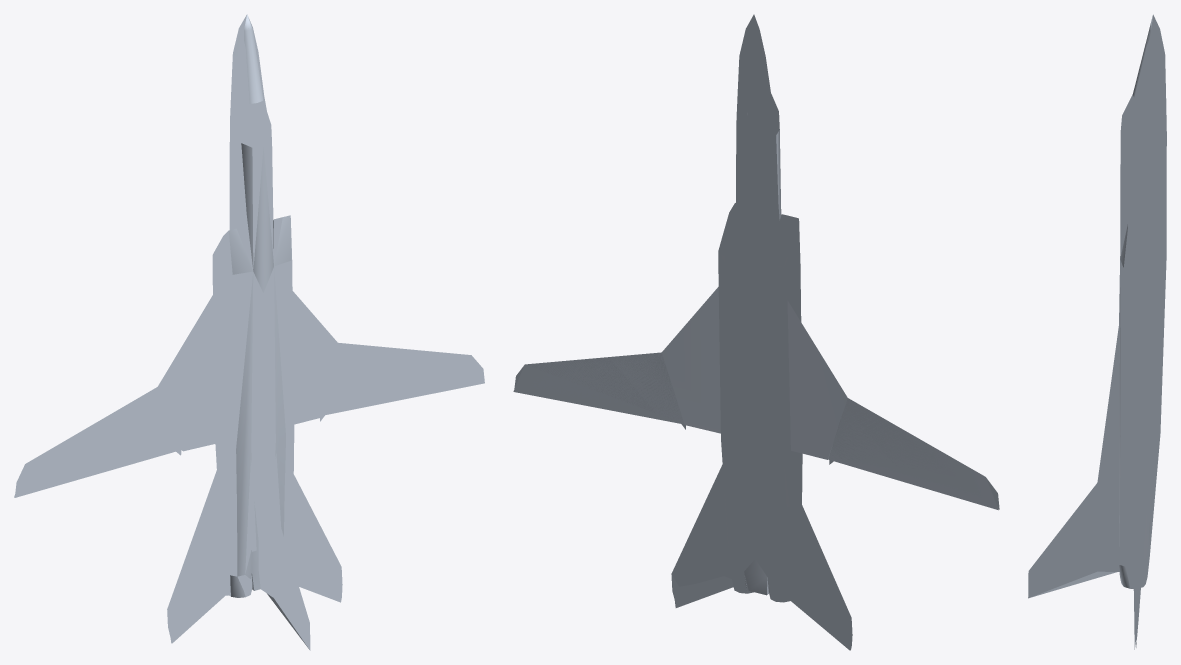
3 views of the same model, side by side, from view 1: azimuth 30°, elevation 25°; view 2: azimuth 150°, elevation 25°; view 3: azimuth 270°, elevation 25° (orthographic). The views are drawn at different scales.
Visible parts, largest first — view 1: db_bkfire_lod2_LOD child0_body2_p17304_Geometry_1.001, db_bkfire_lod3_LOD child0_body3_p17910_Geometry_1.001, db_bkfire_lod1_LOD child0_body_p14938_Geometry_1.001, db_bkfire_lod1_LOD child0_wingl_p15821_Geometry_1.001, db_bkfire_lod1_LOD child0_o2691_p18310_Geometry_1.001, db_bkfire_lod2_LOD child0_stab2_p16643_Geometry_0.001, db_bkfire_lod2_LOD child0_wing2_p16828_Geometry_1.001, db_bkfire_lod1_LOD child0_wing_p14663_Geometry_1.001, db_bkfire_lod1_LOD child0_tail_p14649_Geometry_0.001, db_bkfire_lod1_LOD child0_stab_p14362_Geometry_0.001, db_bkfire_lod1_LOD child0_cpit_p15020_Geometry_0.001, db_bkfire_lod2_LOD child0_tail2_p16773_Geometry_0.001; view 2: db_bkfire_lod1_LOD child0_body_p14938_Geometry_1.001, db_bkfire_lod2_LOD child0_body2_p17304_Geometry_1.001, db_bkfire_lod3_LOD child0_wing3_p18099_Geometry_0.001, db_bkfire_lod1_LOD child0_stab_p14362_Geometry_0.001, db_bkfire_lod3_LOD child0_o2689_p18303_Geometry_0.001, db_bkfire_lod3_LOD child0_wingl3_p18197_Geometry_0.001, db_bkfire_lod2_LOD child0_o2690_p18305_Geometry_0.001, db_bkfire_lod2_LOD child0_wingl2_p16478_Geometry_0.001, db_bkfire_lod3_LOD child0_stab3_p18195_Geometry_0.001, db_bkfire_lod1_LOD child0_inlet_p14384_Geometry_0.001, db_bkfire_lod3_LOD child0_body3_p17910_Geometry_1.001; view 3: db_bkfire_lod1_LOD child0_body_p14938_Geometry_1.001, db_bkfire_lod1_LOD child0_tail_p14649_Geometry_0.001, db_bkfire_lod2_LOD child0_body2_p17304_Geometry_1.001, db_bkfire_lod3_LOD child0_body3_p17910_Geometry_1.001, db_bkfire_lod2_LOD child0_tail2_p16773_Geometry_0.001, db_bkfire_lod2_LOD child0_stab2_p16643_Geometry_0.001, db_bkfire_lod1_LOD child0_o2691_p18310_Geometry_1.001, db_bkfire_lod1_LOD child0_cpit_p15020_Geometry_0.001, db_bkfire_lod1_LOD child0_stab_p14362_Geometry_0.001, db_bkfire_lod1_LOD child0_wing_p14663_Geometry_1.001, db_bkfire_lod2_LOD child0_wing2_p16828_Geometry_1.001, db_bkfire_lod3_LOD child0_tail3_p18116_Geometry_0.001 (+2 smaller).
Part boxes in pixels (bbox=[...]): db_bkfire_lod2_LOD child0_body2_p17304_Geometry_1.001: bbox=[212, 258, 294, 587]; db_bkfire_lod3_LOD child0_body3_p17910_Geometry_1.001: bbox=[228, 14, 291, 597]; db_bkfire_lod1_LOD child0_body_p14938_Geometry_1.001: bbox=[212, 15, 294, 590]; db_bkfire_lod1_LOD child0_wingl_p15821_Geometry_1.001: bbox=[14, 387, 181, 497]; db_bkfire_lod1_LOD child0_o2691_p18310_Geometry_1.001: bbox=[320, 342, 484, 421]; db_bkfire_lod2_LOD child0_stab2_p16643_Geometry_0.001: bbox=[167, 468, 341, 641]; db_bkfire_lod2_LOD child0_wing2_p16828_Geometry_1.001: bbox=[174, 292, 327, 451]; db_bkfire_lod1_LOD child0_wing_p14663_Geometry_1.001: bbox=[157, 291, 337, 434]; db_bkfire_lod1_LOD child0_tail_p14649_Geometry_0.001: bbox=[258, 417, 310, 650]; db_bkfire_lod1_LOD child0_stab_p14362_Geometry_0.001: bbox=[167, 500, 342, 643]; db_bkfire_lod1_LOD child0_cpit_p15020_Geometry_0.001: bbox=[241, 100, 271, 147]; db_bkfire_lod2_LOD child0_tail2_p16773_Geometry_0.001: bbox=[260, 343, 274, 502]; db_bkfire_lod1_LOD child0_body_p14938_Geometry_1.001: bbox=[718, 14, 802, 595]; db_bkfire_lod2_LOD child0_body2_p17304_Geometry_1.001: bbox=[718, 17, 801, 576]; db_bkfire_lod3_LOD child0_wing3_p18099_Geometry_0.001: bbox=[661, 287, 847, 459]; db_bkfire_lod1_LOD child0_stab_p14362_Geometry_0.001: bbox=[671, 464, 852, 648]; db_bkfire_lod3_LOD child0_o2689_p18303_Geometry_0.001: bbox=[513, 353, 684, 424]; db_bkfire_lod3_LOD child0_wingl3_p18197_Geometry_0.001: bbox=[828, 398, 998, 510]; db_bkfire_lod2_LOD child0_o2690_p18305_Geometry_0.001: bbox=[525, 352, 681, 421]; db_bkfire_lod2_LOD child0_wingl2_p16478_Geometry_0.001: bbox=[829, 398, 999, 509]; db_bkfire_lod3_LOD child0_stab3_p18195_Geometry_0.001: bbox=[671, 574, 851, 650]; db_bkfire_lod1_LOD child0_inlet_p14384_Geometry_0.001: bbox=[719, 203, 798, 267]; db_bkfire_lod3_LOD child0_body3_p17910_Geometry_1.001: bbox=[744, 24, 781, 595]; db_bkfire_lod1_LOD child0_body_p14938_Geometry_1.001: bbox=[1119, 14, 1166, 582]; db_bkfire_lod1_LOD child0_tail_p14649_Geometry_0.001: bbox=[1028, 398, 1119, 598]; db_bkfire_lod2_LOD child0_body2_p17304_Geometry_1.001: bbox=[1119, 255, 1166, 581]; db_bkfire_lod3_LOD child0_body3_p17910_Geometry_1.001: bbox=[1119, 15, 1152, 588]; db_bkfire_lod2_LOD child0_tail2_p16773_Geometry_0.001: bbox=[1098, 326, 1119, 571]; db_bkfire_lod2_LOD child0_stab2_p16643_Geometry_0.001: bbox=[1134, 474, 1146, 649]; db_bkfire_lod1_LOD child0_o2691_p18310_Geometry_1.001: bbox=[1145, 405, 1151, 542]; db_bkfire_lod1_LOD child0_cpit_p15020_Geometry_0.001: bbox=[1120, 95, 1137, 139]; db_bkfire_lod1_LOD child0_stab_p14362_Geometry_0.001: bbox=[1133, 484, 1146, 647]; db_bkfire_lod1_LOD child0_wing_p14663_Geometry_1.001: bbox=[1144, 301, 1152, 443]; db_bkfire_lod2_LOD child0_wing2_p16828_Geometry_1.001: bbox=[1142, 299, 1152, 459]; db_bkfire_lod3_LOD child0_tail3_p18116_Geometry_0.001: bbox=[1030, 571, 1116, 597].
Size of the model in its own units: 16.34 by 20.01 by 4.22.
